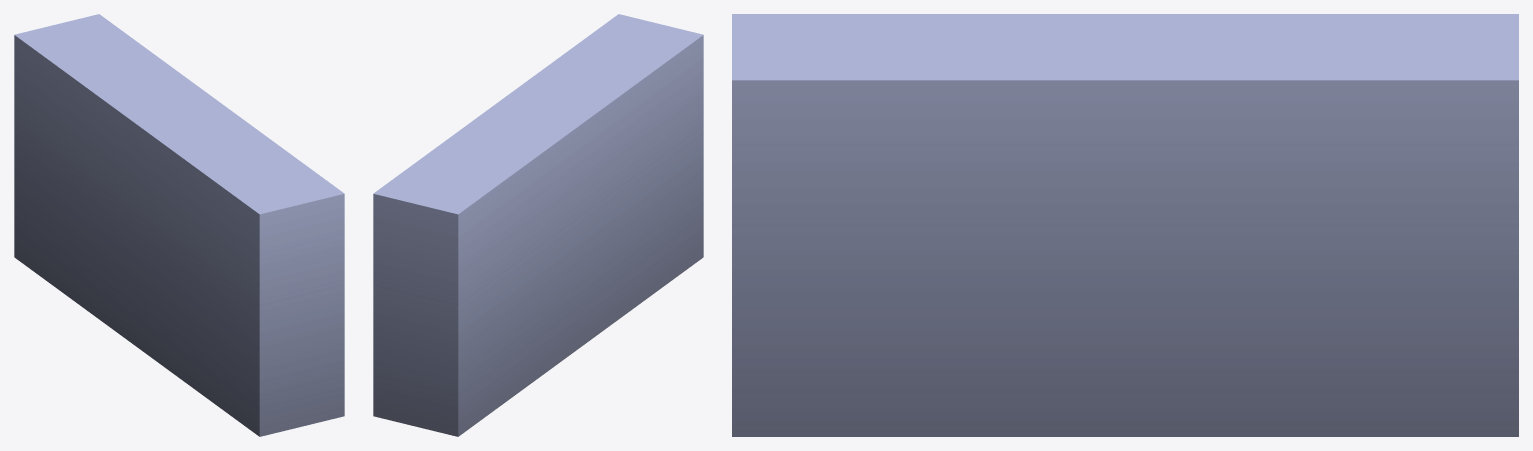
File: wall-low.fbx
The picture shows the model from 3 angles, left to right: view 1: azimuth 30°, elevation 25°; view 2: azimuth 150°, elevation 25°; view 3: azimuth 270°, elevation 25°; orthographic projection. The views are drawn at different scales.
Visible parts, largest first — view 1: wall-low; view 2: wall-low; view 3: wall-low.
Part boxes in pixels (x1,y1,x2,y2): wall-low: [14, 14, 344, 436]; wall-low: [373, 14, 703, 436]; wall-low: [732, 14, 1518, 436].
Bounding box in the file's own units: 20 × 50 × 100.
